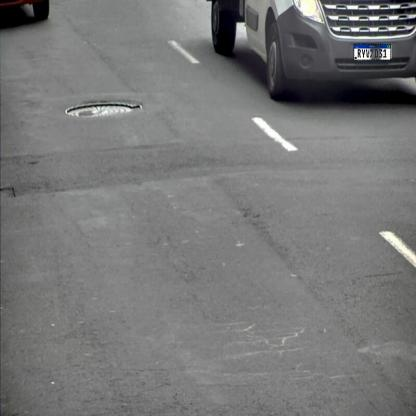PlacaM: (354, 44, 391, 60)
